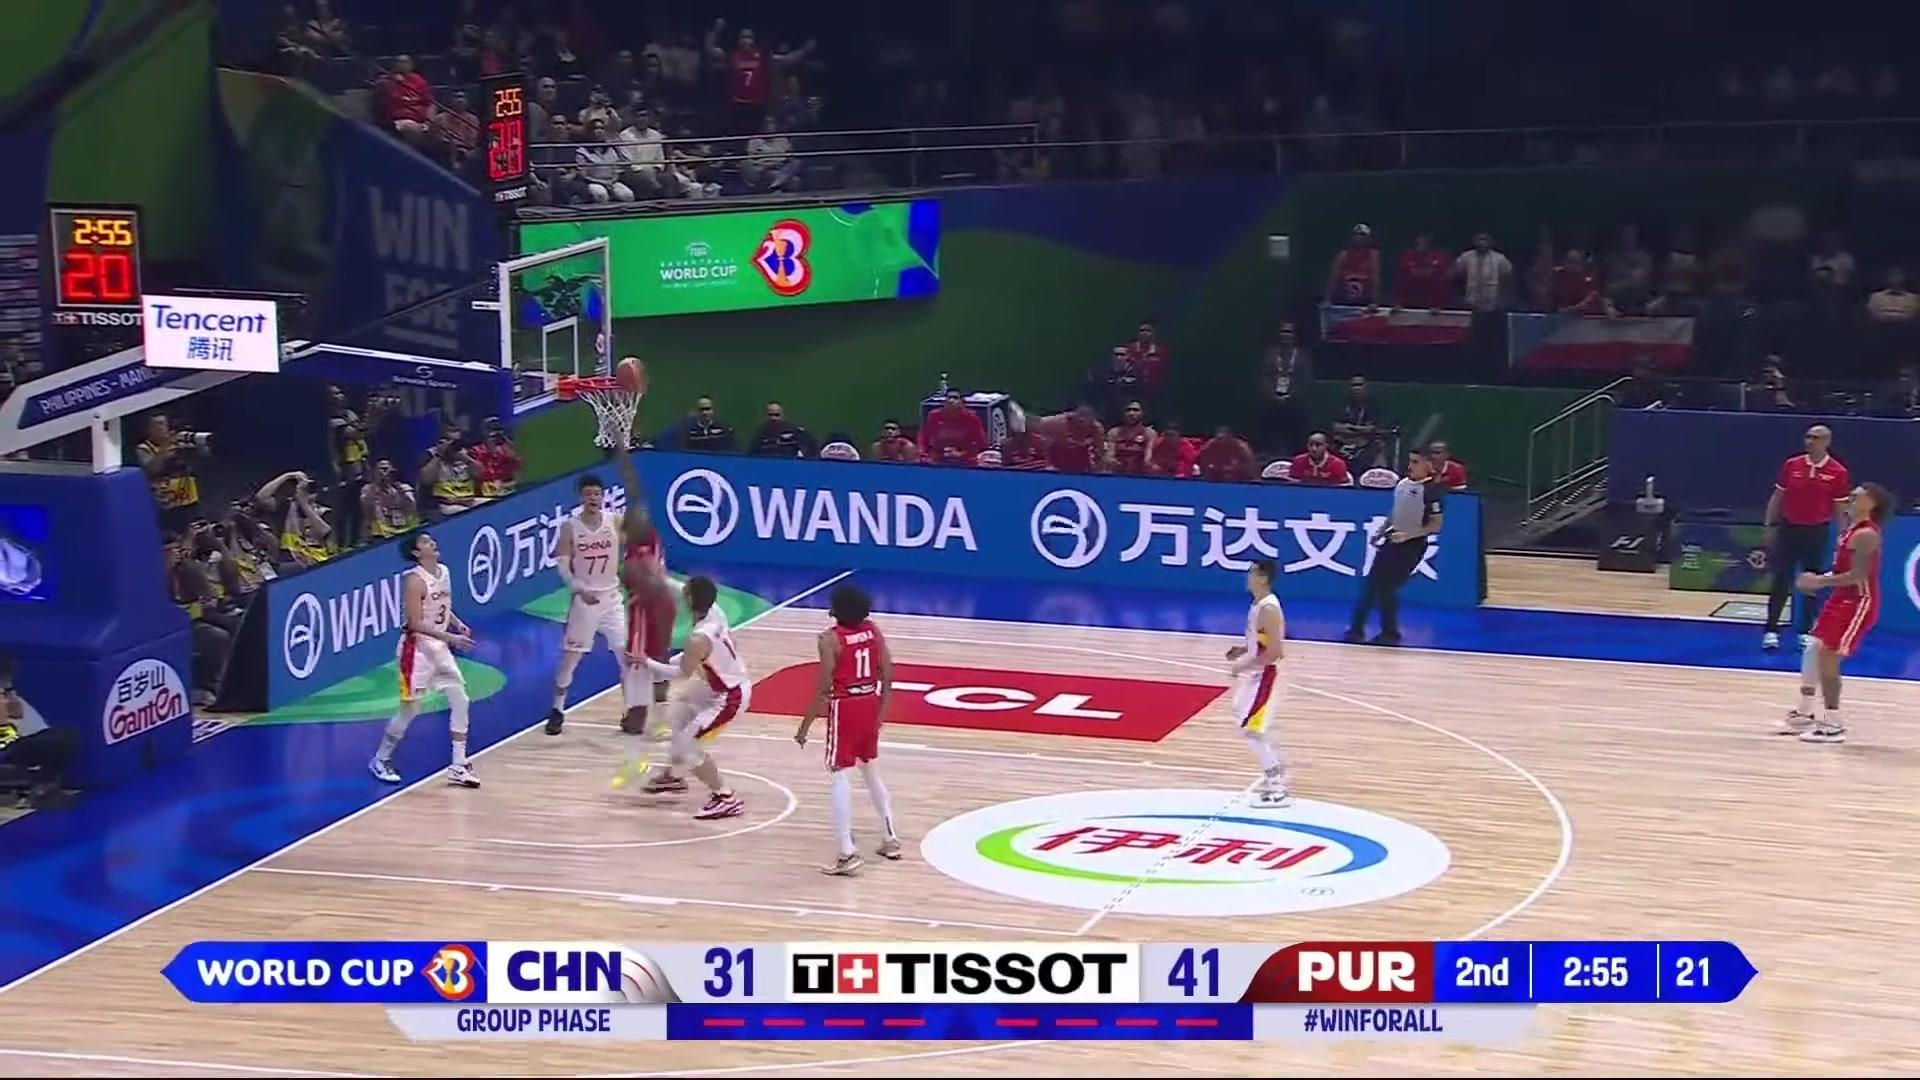foul: (597, 517, 767, 798)
